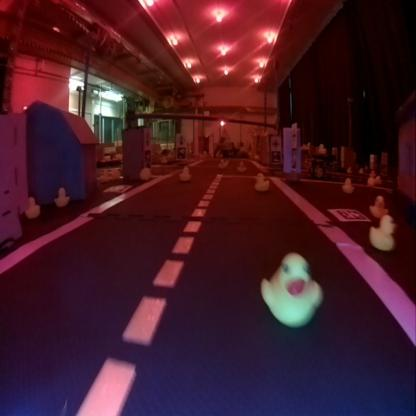Duckie: (260, 255, 321, 327), (370, 217, 394, 248), (370, 195, 387, 215), (24, 197, 39, 216), (254, 172, 269, 190), (56, 186, 68, 204), (179, 165, 188, 180), (342, 177, 353, 189), (218, 160, 225, 166)
QR code: (330, 208, 367, 221), (105, 184, 128, 192)
